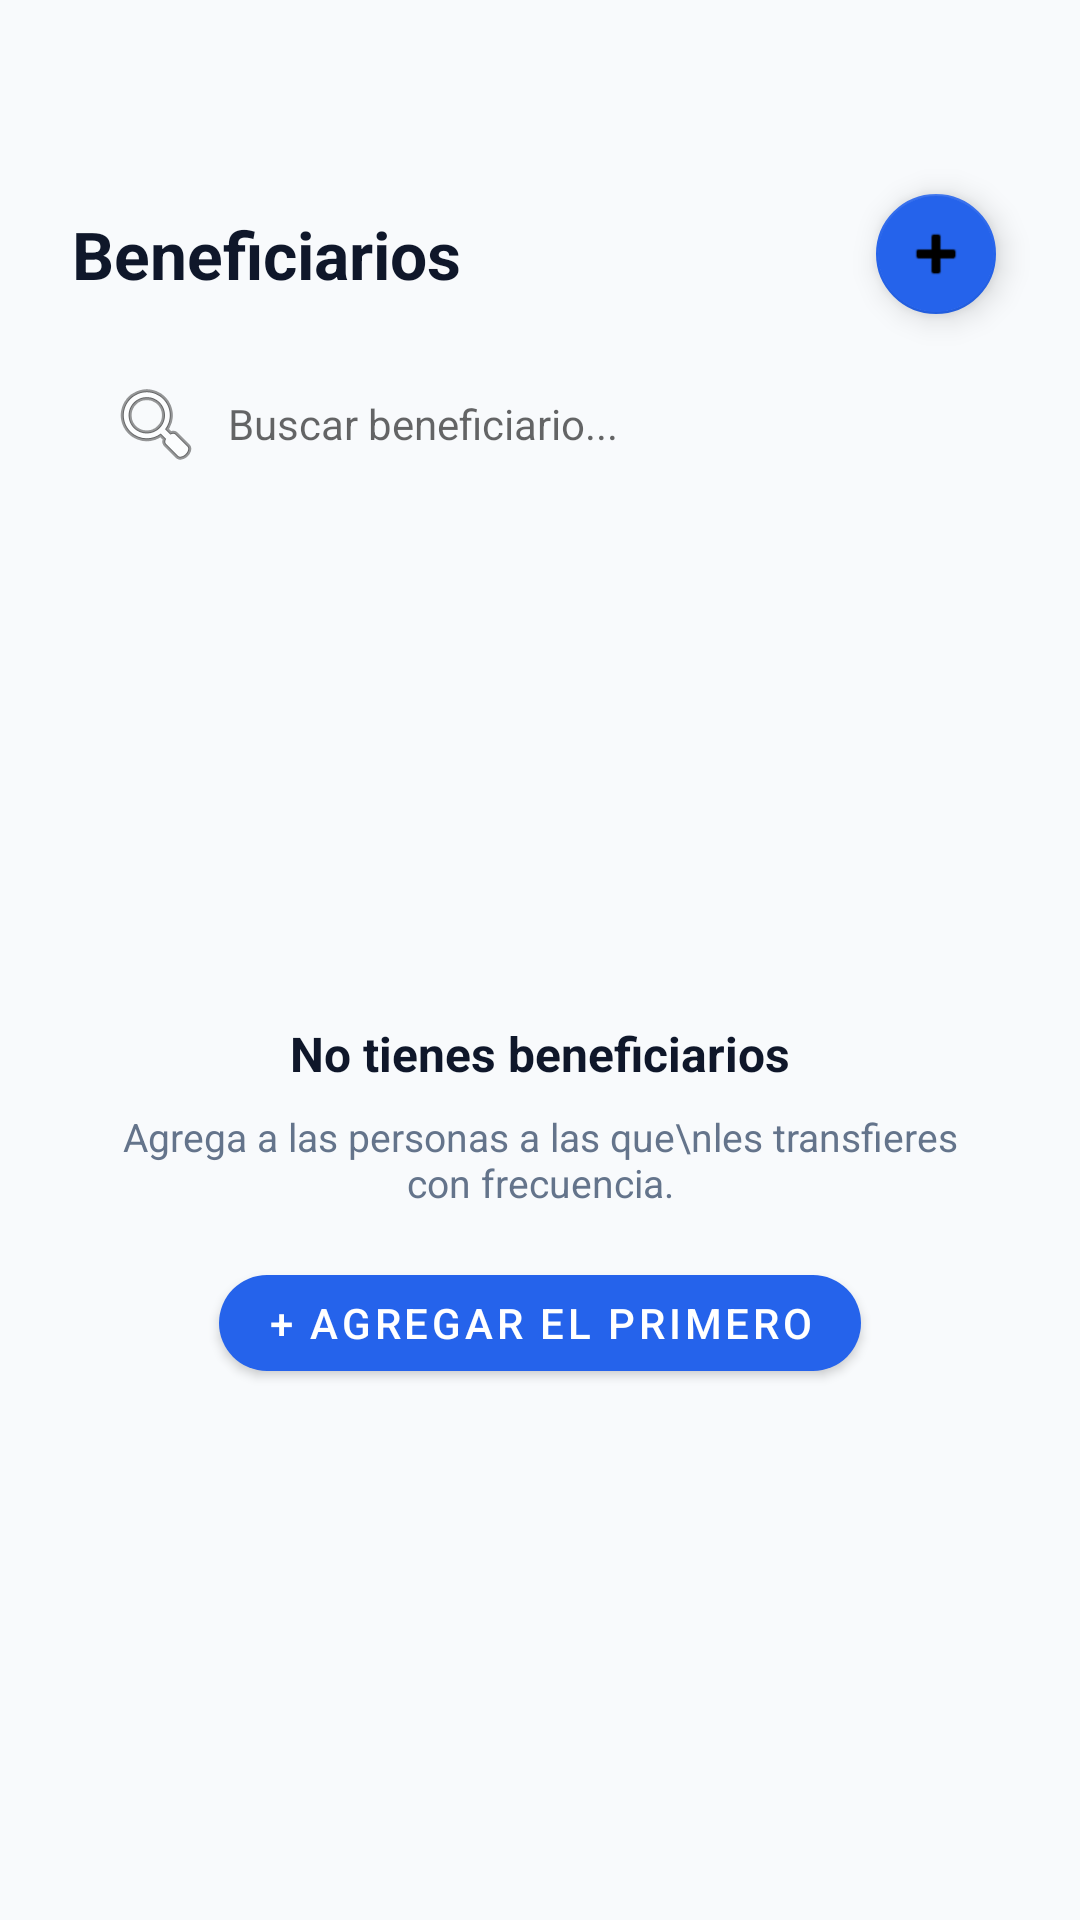

Screen size 1080px x 1920px. Icon name, then its box in pixels as bbox(x1, y1, x2, y2):
Agregar: bbox(876, 194, 999, 316)
